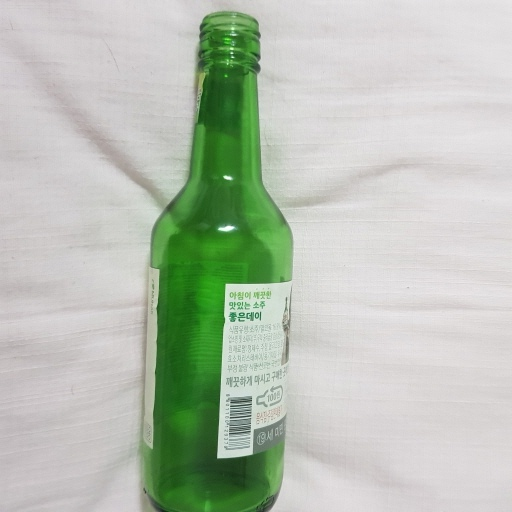Glass_0: (133, 9, 299, 512)
